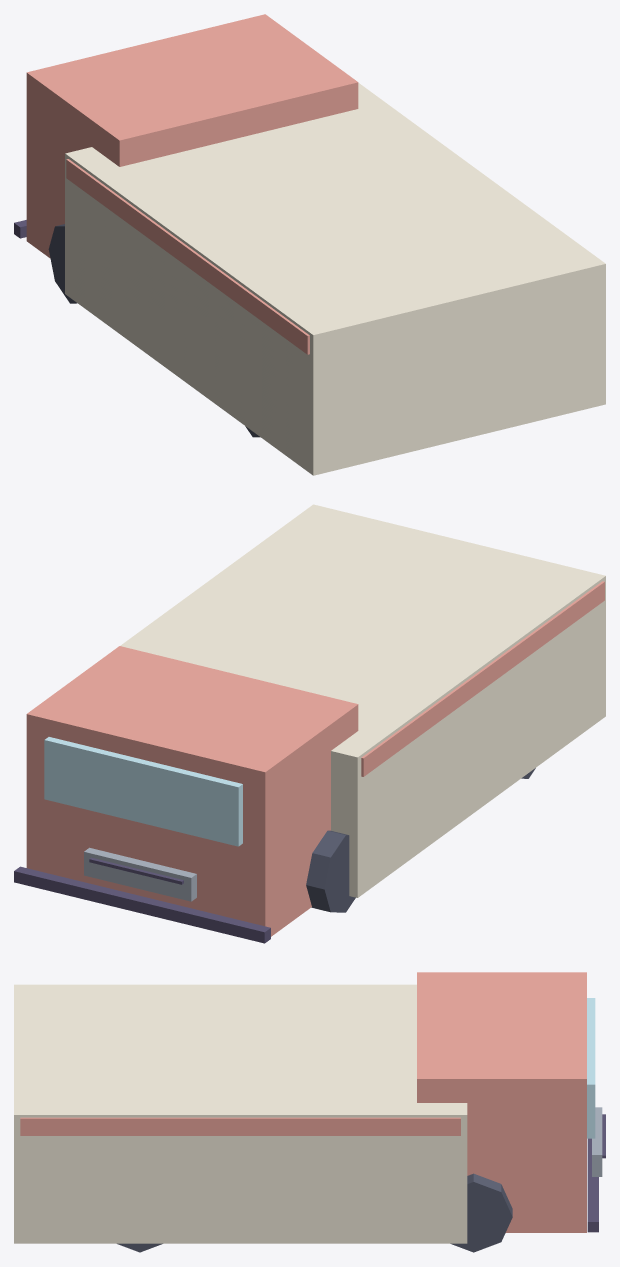
Rendered from player_truck_lod2.glb.
The picture shows the model from 3 angles, top to bottom: view 1: azimuth 30°, elevation 25°; view 2: azimuth 150°, elevation 25°; view 3: azimuth 270°, elevation 25°; orthographic projection. The views are drawn at different scales.
Parts seen in each view (by area): view 1: Trailer_Body, Cab_Body, Trailer_Stripe, Wheel_1; view 2: Trailer_Body, Cab_Body, Windshield, Trailer_Stripe, Front_Bumper, Wheel_1, Front_Grille; view 3: Trailer_Body, Cab_Body, Trailer_Stripe, Wheel_2, Windshield, Front_Bumper, Front_Grille.
Part boxes in pixels (<box>): Trailer_Body: <box>65,83,605,475</box>; Cab_Body: <box>26,14,358,258</box>; Trailer_Stripe: <box>66,159,309,354</box>; Wheel_1: <box>48,224,77,303</box>; Trailer_Body: <box>120,504,605,897</box>; Cab_Body: <box>26,646,358,936</box>; Windshield: <box>44,737,242,846</box>; Trailer_Stripe: <box>361,581,604,776</box>; Front_Bumper: <box>14,866,270,943</box>; Wheel_1: <box>306,830,355,912</box>; Front_Grille: <box>84,847,196,901</box>; Trailer_Body: <box>14,984,467,1243</box>; Cab_Body: <box>417,972,586,1232</box>; Trailer_Stripe: <box>20,1117,460,1135</box>; Wheel_2: <box>450,1173,512,1252</box>; Windshield: <box>587,998,595,1138</box>; Front_Bumper: <box>587,1138,598,1232</box>; Front_Grille: <box>592,1107,602,1176</box>.
Bounding box in the file's own units: 4.98 × 2.9 × 9.4.
